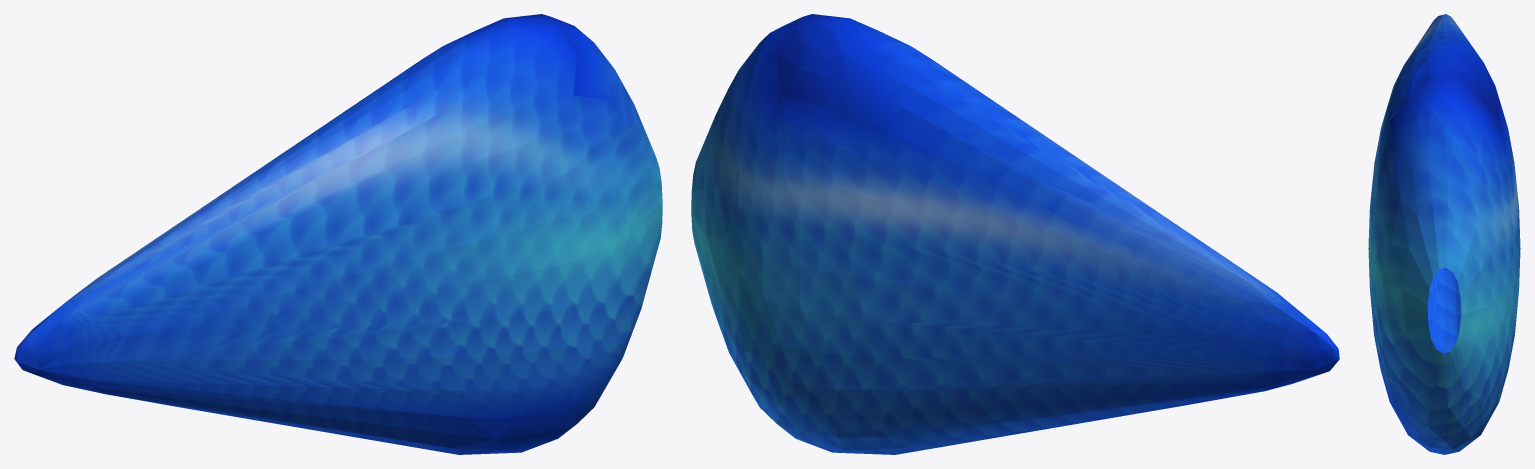
File: Fish5_2_new11.dae
3 renders of one model, left to right at view 1: azimuth 30°, elevation 25°; view 2: azimuth 150°, elevation 25°; view 3: azimuth 270°, elevation 25°, orthographic. The views are drawn at different scales.
Visible parts, largest first — view 1: Cube_Cube_001; view 2: Cube_Cube_001; view 3: Cube_Cube_001.
Part boxes in pixels (left/top/right/bottom): Cube_Cube_001: left=14, top=14, right=662, bottom=454; Cube_Cube_001: left=691, top=14, right=1339, bottom=454; Cube_Cube_001: left=1368, top=14, right=1520, bottom=454.
Size of the model in its own units: 6.89 by 1.57 by 4.42.
Materials: 1 (1 with a texture image).
